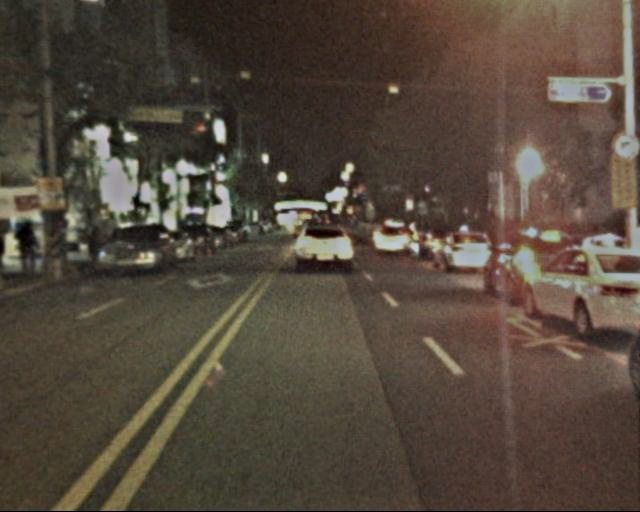person: (15, 217, 53, 278)
